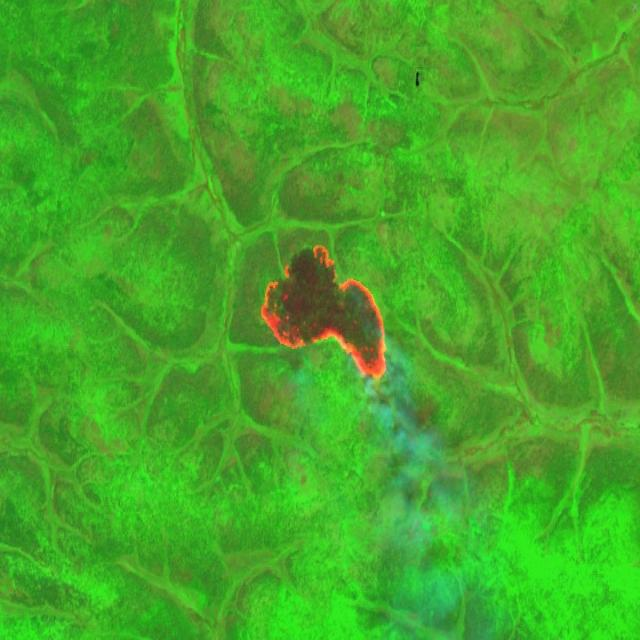fire: (258, 238, 388, 394)
